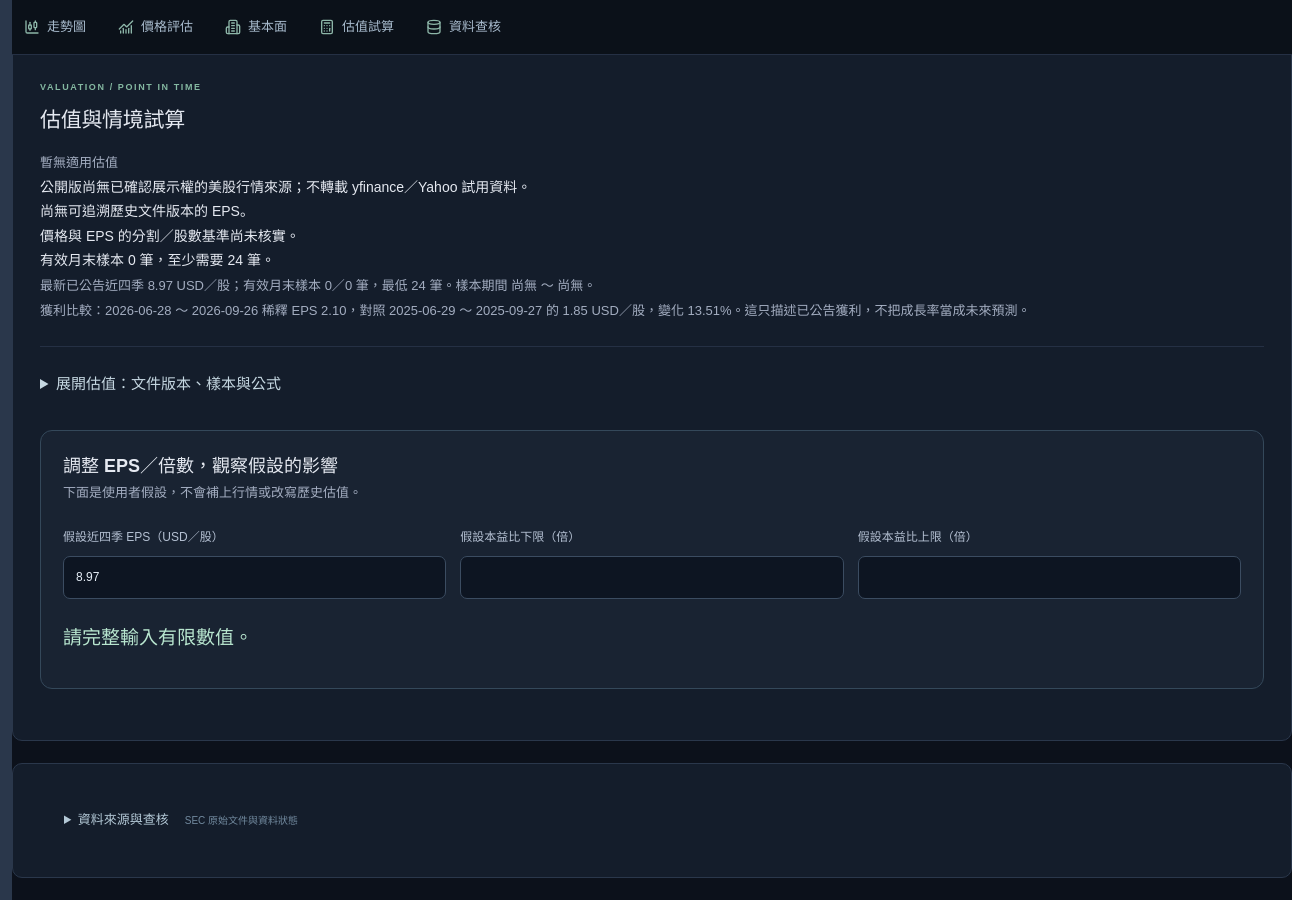
Test case: loads Apple SEC data with periods, sources, explicit quote gaps and scenario EPS feedback
This screenshot has width=1292, height=900.
(page scrolled)
Expected: the element named "美股歷史估值驗算" shows "暫無適用估值", [40,155,118,170]
Replace the text in the number field labelled "假設近四季 EPS（USD／股）" with "0": (255, 578) [63,556,446,599]
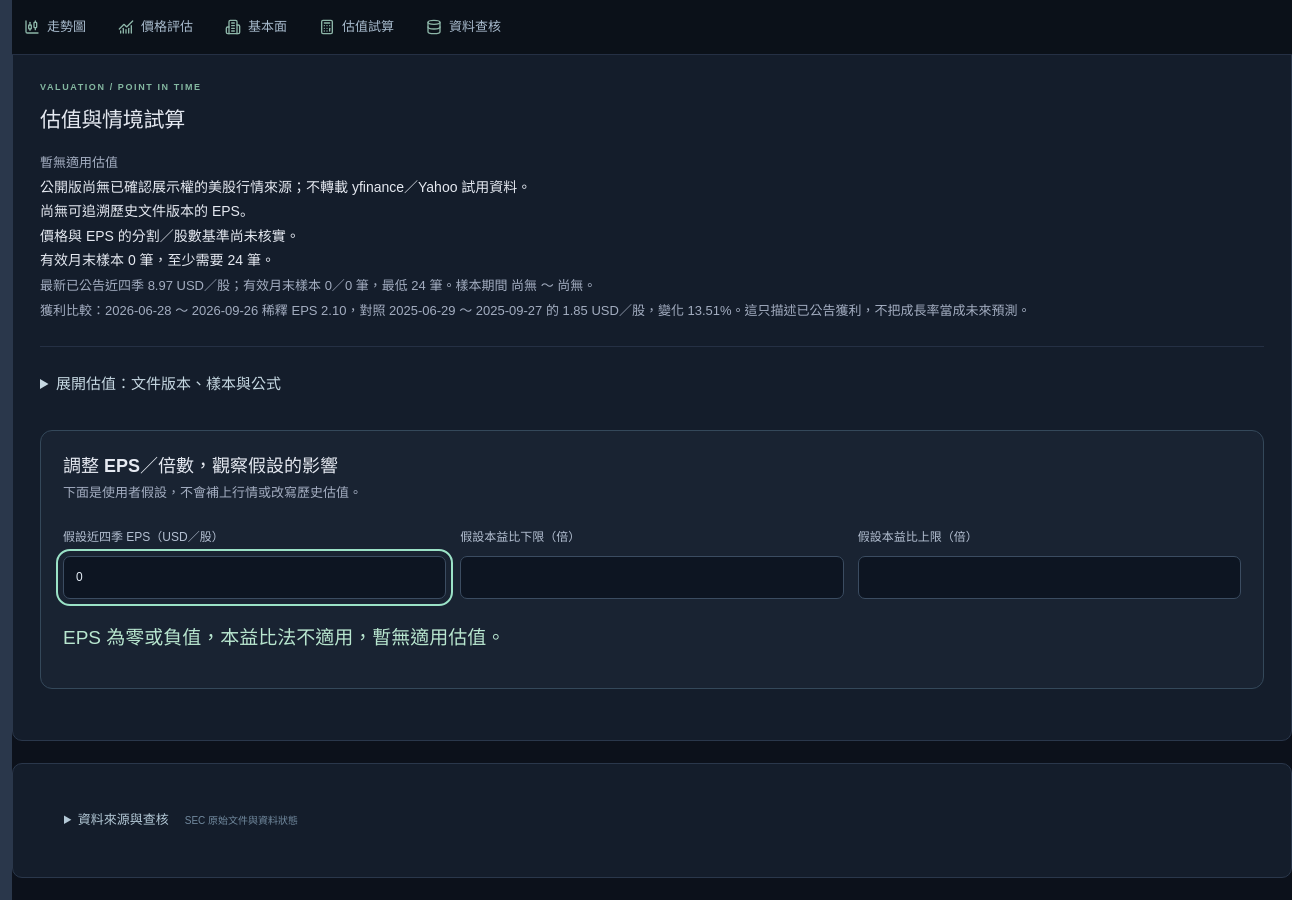
Expected: the element named "美股使用者假設情境試算" shows "EPS 為零或負值", [63,627,505,648]
